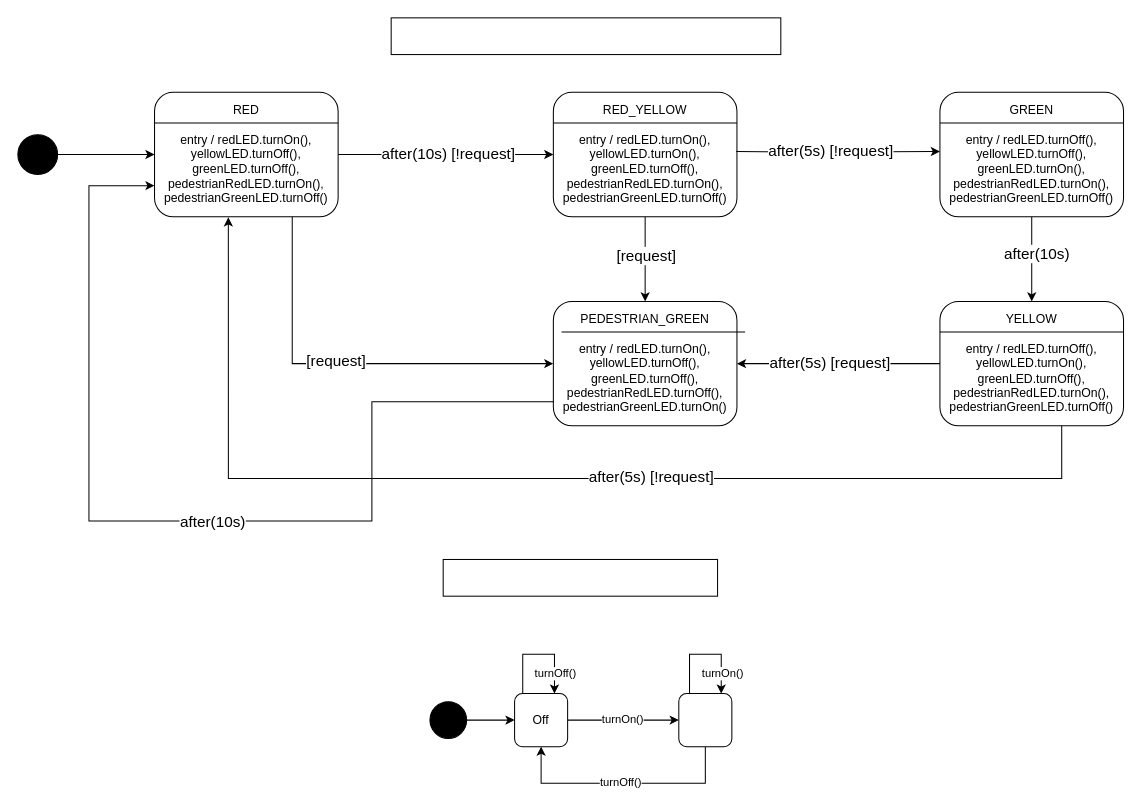
Image size: 1141x810. Some labels were removed from this diagram. Each missing label, with the centre of its shape:
"LED State Machine Diagram" goes at (x=580, y=577).
"On" goes at (x=705, y=720).
"Traffic Light Controller State Machine Diagram" goes at (x=585, y=36).
